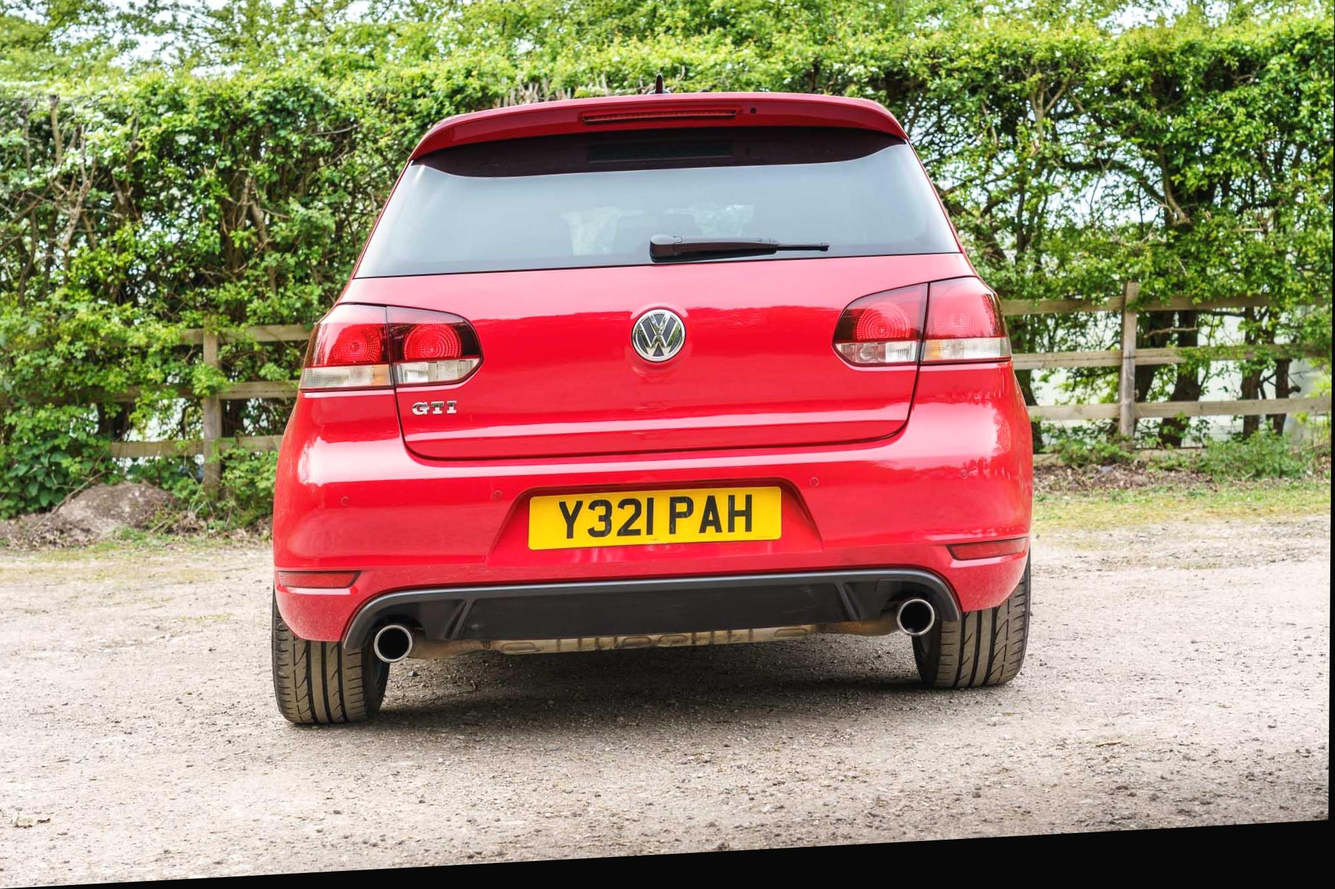License_Plate: (522, 476, 795, 560)
